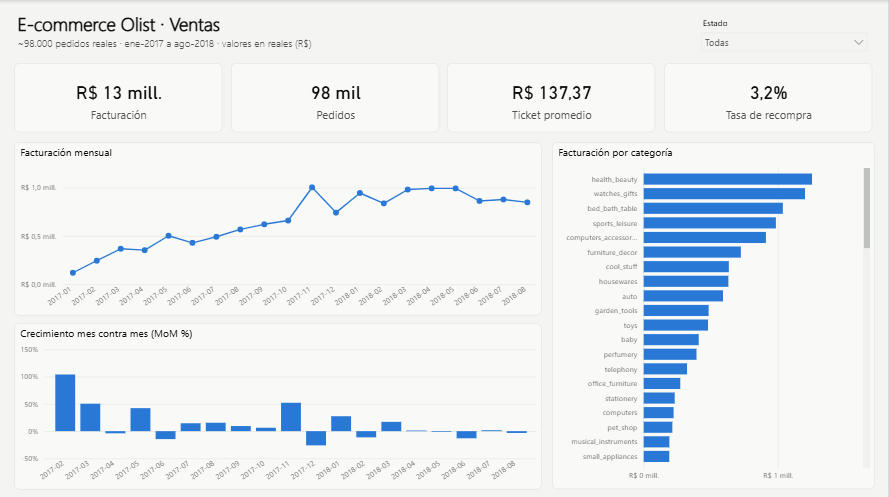

The dashboard page shown, as its layout file describes it:
{"tool":"powerbi","page":{"name":"Ventas","canvas":[1280,720],"ordinal":0},"visuals":[{"type":"textbox","box":[20,10,900,70],"z":1000},{"type":"slicer","fields":{"Values":["orders.customer_state"]},"box":[1000,18,260,60],"z":2000},{"type":"card","title":"Facturación","fields":{"Values":["_Medidas.Facturación"]},"box":[20,90,300,100],"z":3000},{"type":"card","title":"Pedidos","fields":{"Values":["_Medidas.Pedidos"]},"box":[332,90,300,100],"z":4000},{"type":"card","title":"Ticket promedio","fields":{"Values":["_Medidas.Ticket promedio"]},"box":[644,90,300,100],"z":5000},{"type":"card","title":"Tasa de recompra","fields":{"Values":["_Medidas.Tasa de recompra"]},"box":[956,90,300,100],"z":6000},{"type":"lineChart","title":"Facturación mensual","fields":{"Category":["Calendario.Mes"],"Y":["_Medidas.Facturación"]},"box":[20,205,760,250],"z":7000},{"type":"clusteredColumnChart","title":"Crecimiento mes contra mes (MoM %)","fields":{"Category":["Calendario.Mes"],"Y":["_Medidas.Crecimiento MoM %"]},"box":[20,465,760,240],"z":8000},{"type":"clusteredBarChart","title":"Facturación por categoría","fields":{"Category":["order_items.category"],"Y":["_Medidas.Facturación categoría"]},"box":[795,205,465,500],"z":9000}]}

Visuals, with their boxes in screenshot pixels (x1, y1, x2, y2), scaled from the page's 1280x720 canvas onto the 889x497 screenshot:
textbox: BBox(14, 7, 639, 55)
slicer - orders.customer_state: BBox(695, 12, 875, 54)
"Facturación" card: BBox(14, 62, 222, 131)
"Pedidos" card: BBox(231, 62, 439, 131)
"Ticket promedio" card: BBox(447, 62, 656, 131)
"Tasa de recompra" card: BBox(664, 62, 872, 131)
"Facturación mensual" lineChart: BBox(14, 142, 542, 314)
"Crecimiento mes contra mes (MoM %)" clusteredColumnChart: BBox(14, 321, 542, 487)
"Facturación por categoría" clusteredBarChart: BBox(552, 142, 875, 487)
